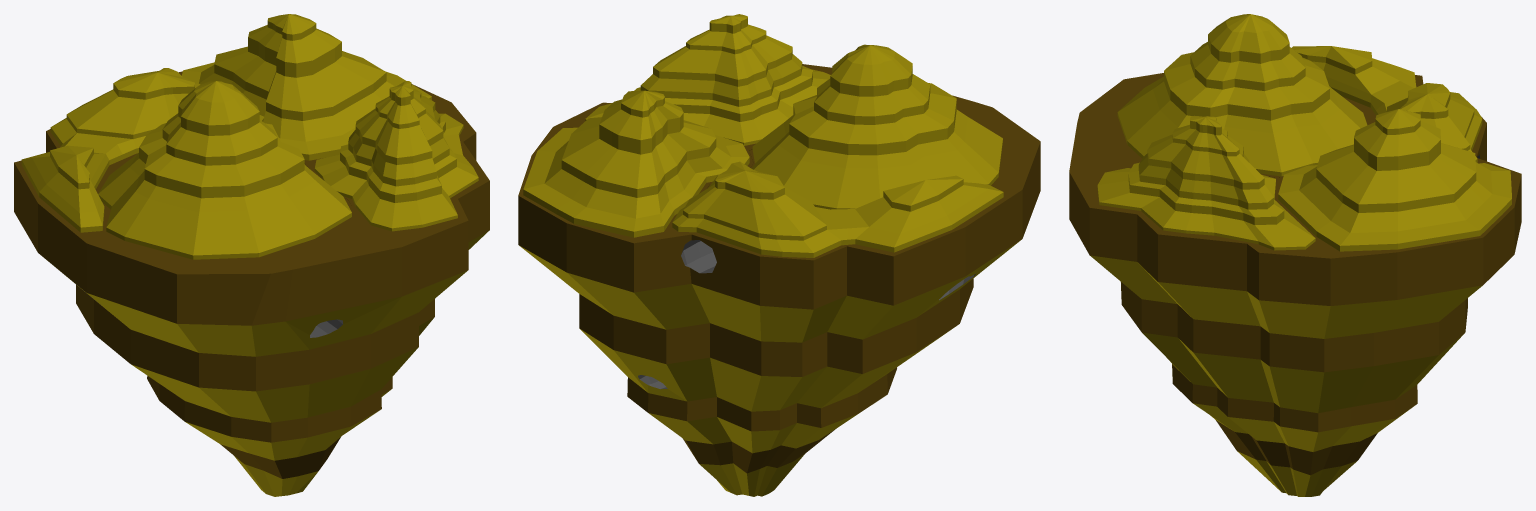
Rendered from Islands.fbx.
The picture shows the model from 3 angles, left to right: view 1: azimuth 30°, elevation 25°; view 2: azimuth 150°, elevation 25°; view 3: azimuth 270°, elevation 25°; orthographic projection. The views are drawn at different scales.
Parts seen in each view (by area): view 1: wkankerieland; view 2: wkankerieland; view 3: wkankerieland.
Boxes of the visible parts, <box> form: wkankerieland: <box>14,14,489,496</box>; wkankerieland: <box>518,14,1040,496</box>; wkankerieland: <box>1069,14,1521,496</box>.
Size of the model in its own units: 106736 by 109184 by 104069.
